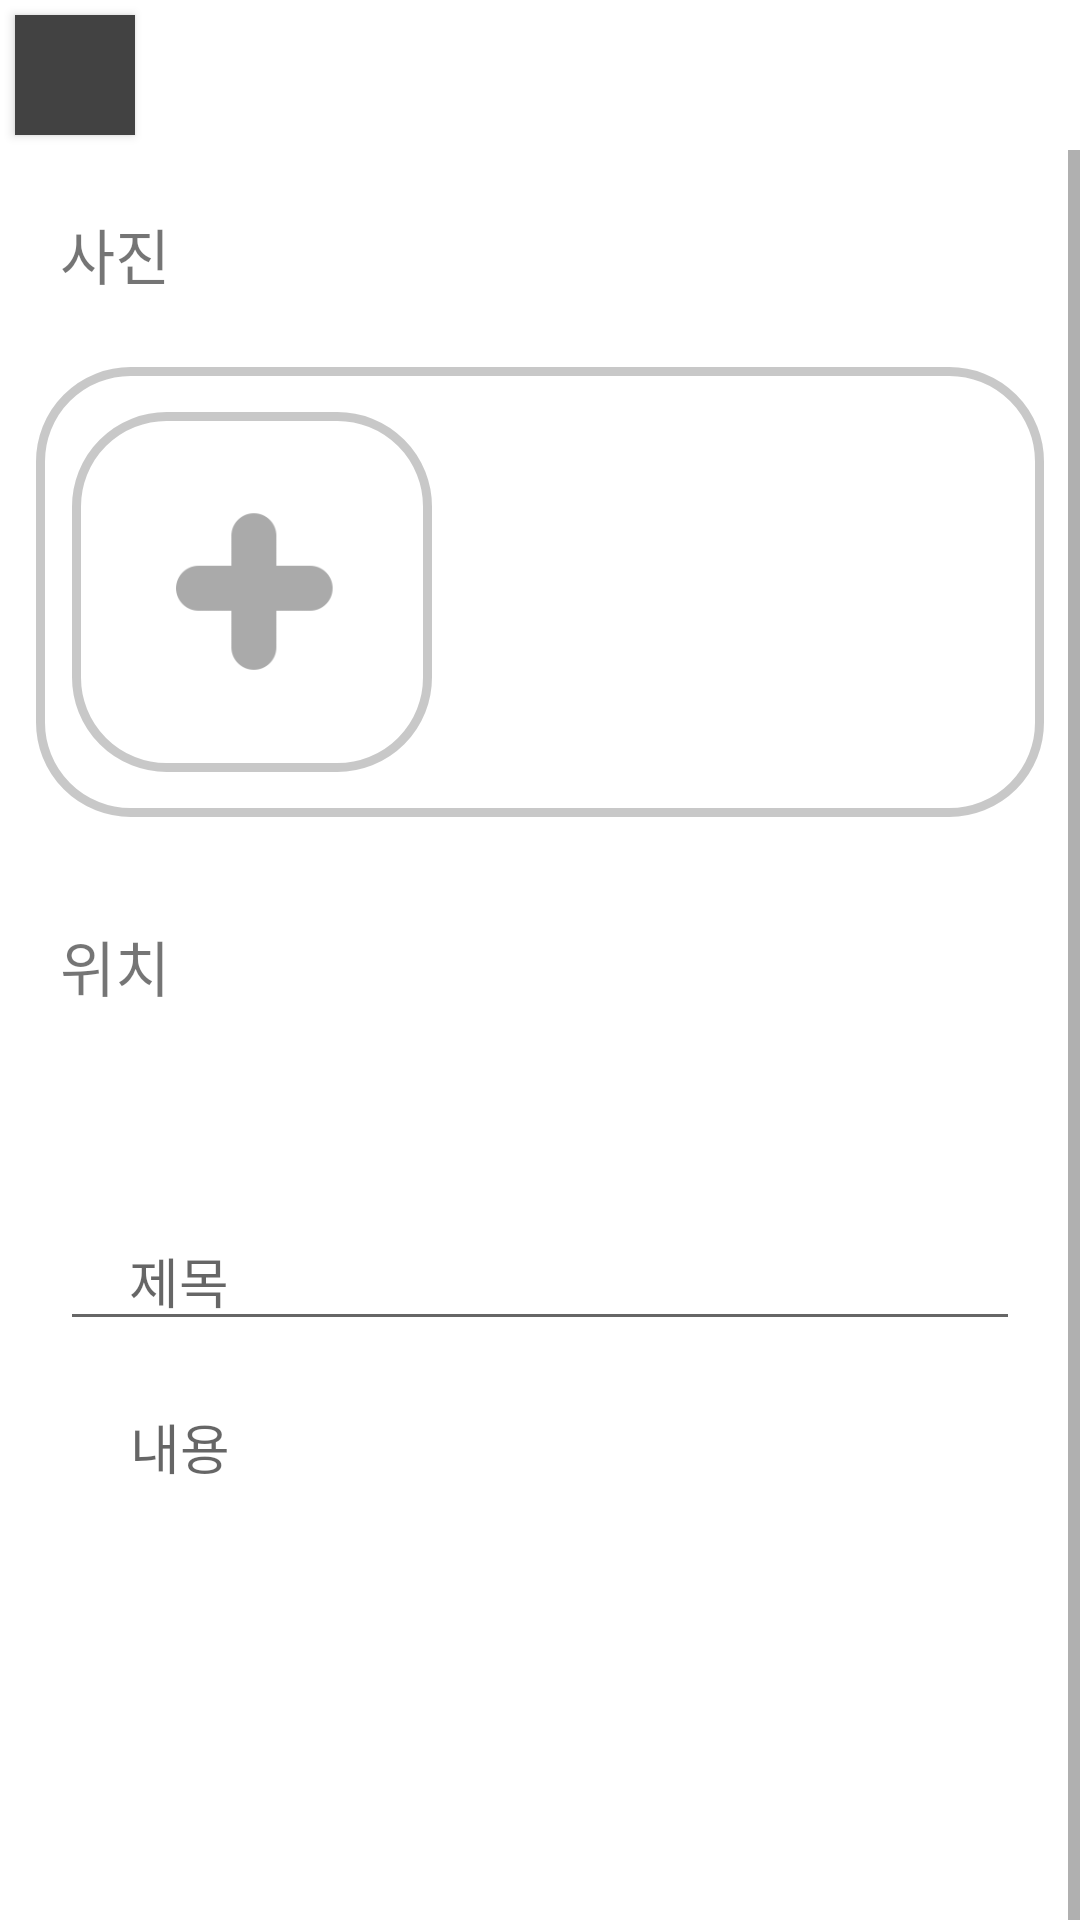

Icon bounding boxes for this 1080px x 1920px phone screenshot, format box=[x1, y1, x2, y2]:
plus: box=[176, 513, 333, 670]
